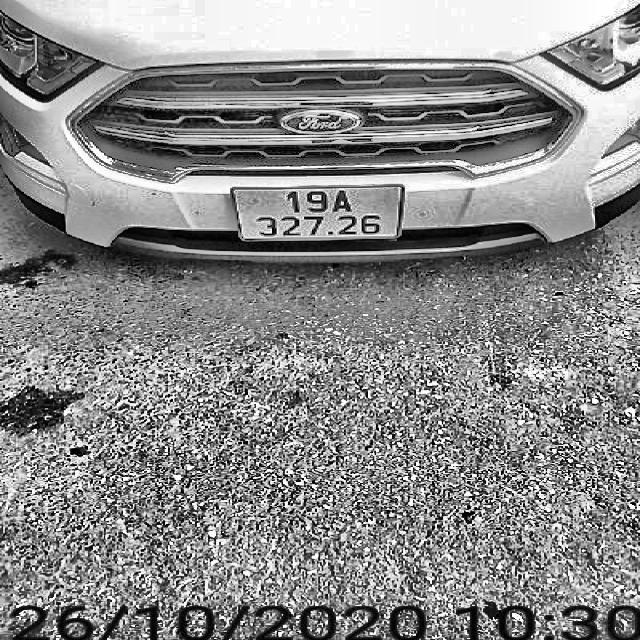plate: (225, 179, 412, 249)
